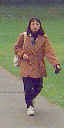person: (16, 21, 49, 112)
